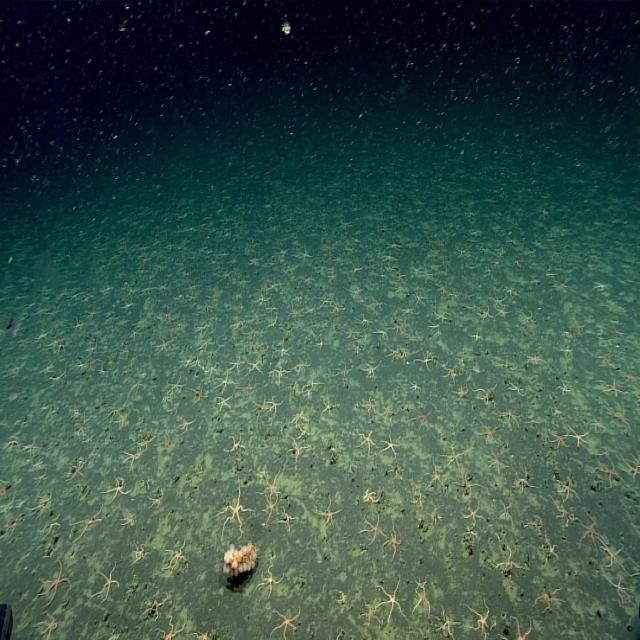brittle-stars: (220, 484, 249, 533), (376, 581, 405, 622), (93, 560, 120, 604), (40, 562, 69, 600), (268, 607, 301, 638), (76, 506, 102, 538), (466, 602, 490, 636), (578, 515, 600, 552), (593, 458, 619, 488), (104, 474, 131, 501), (362, 514, 387, 543), (441, 443, 465, 472), (164, 540, 187, 570), (145, 591, 167, 622), (159, 615, 186, 640), (318, 498, 340, 528), (550, 496, 572, 526), (601, 542, 626, 568), (261, 564, 281, 596), (361, 596, 382, 626), (384, 523, 403, 556), (37, 611, 58, 640), (492, 548, 518, 571), (31, 493, 53, 519), (536, 588, 562, 610), (260, 469, 280, 497), (358, 428, 377, 456), (539, 536, 558, 564), (510, 616, 532, 640), (512, 469, 534, 493), (601, 377, 623, 401), (413, 589, 433, 615), (380, 433, 400, 459), (458, 475, 481, 497), (567, 426, 590, 448), (437, 613, 457, 638), (487, 449, 507, 474), (610, 577, 629, 603), (426, 462, 445, 488), (478, 418, 497, 443), (414, 405, 432, 431), (500, 407, 520, 430), (415, 346, 435, 369), (623, 456, 640, 482), (461, 503, 482, 524), (474, 386, 494, 406), (20, 438, 40, 458), (262, 496, 280, 518), (334, 359, 351, 382), (281, 507, 297, 531), (34, 464, 50, 488), (362, 486, 382, 505), (360, 361, 380, 380), (176, 416, 196, 435), (360, 396, 378, 417), (168, 375, 187, 394), (286, 438, 304, 458), (226, 432, 244, 452), (68, 461, 86, 481), (508, 379, 525, 399), (267, 396, 282, 418), (270, 366, 288, 384), (121, 450, 140, 467), (559, 342, 575, 362), (156, 336, 172, 356), (294, 354, 310, 374), (133, 544, 150, 562), (550, 431, 568, 448), (291, 408, 308, 426), (215, 394, 232, 412), (442, 364, 458, 383), (190, 385, 206, 404), (321, 396, 336, 416), (241, 378, 256, 398), (490, 290, 506, 308), (346, 286, 364, 302), (247, 357, 263, 375), (370, 296, 386, 314), (298, 422, 313, 441), (526, 351, 542, 368), (244, 324, 260, 341), (115, 414, 130, 432), (228, 355, 243, 373), (471, 327, 484, 347), (85, 304, 100, 321), (494, 305, 511, 320), (374, 324, 389, 341), (256, 398, 268, 419), (478, 303, 492, 321), (206, 358, 220, 376), (296, 382, 310, 400), (391, 319, 404, 338), (454, 384, 468, 401), (159, 434, 173, 451), (140, 436, 154, 452), (426, 258, 440, 274), (382, 250, 396, 265), (268, 278, 282, 293), (401, 302, 414, 318), (412, 575, 425, 590), (380, 404, 392, 420), (434, 312, 450, 324), (388, 345, 400, 360), (73, 359, 86, 372), (108, 404, 120, 418), (330, 300, 342, 314), (139, 284, 153, 296), (398, 346, 410, 360), (409, 378, 419, 394)
